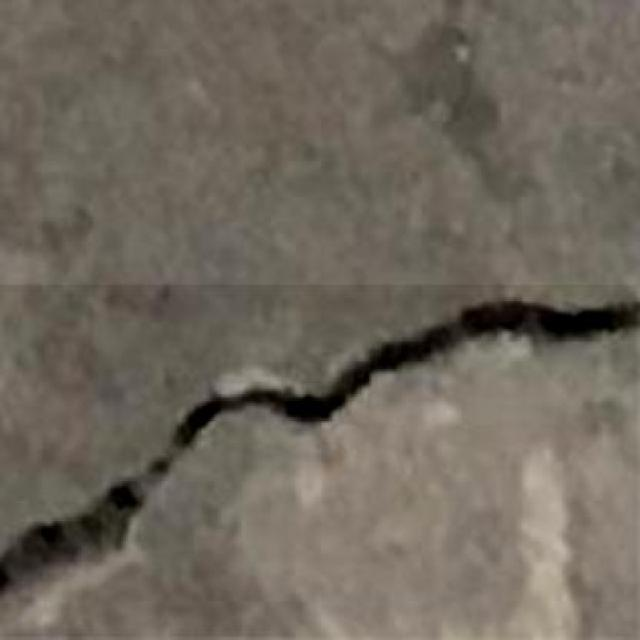Crack: (0, 275, 640, 627)
